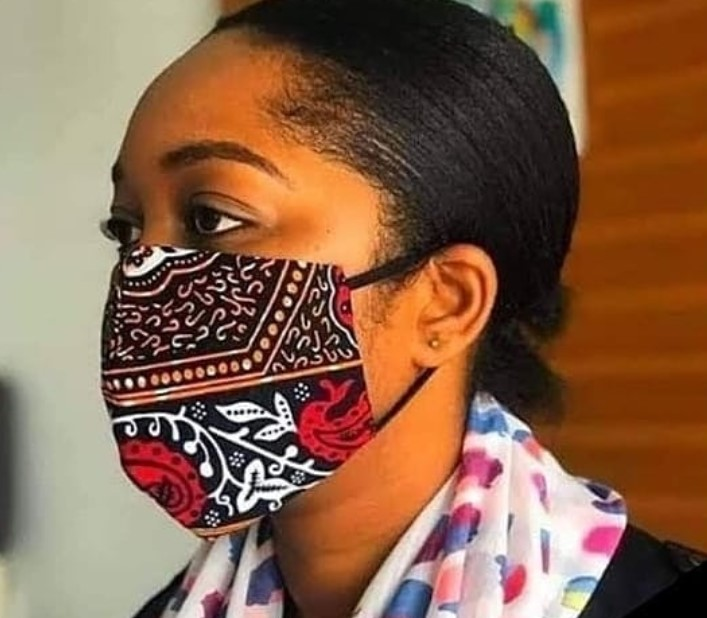face_with_mask: (94, 4, 535, 543)
